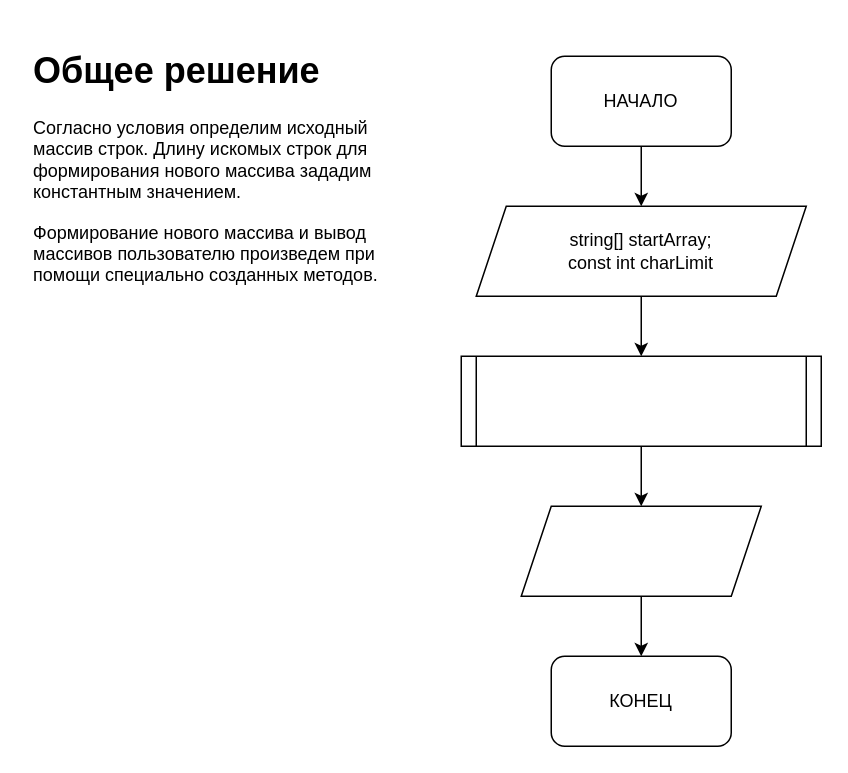
The diagram is 848 pixels wide and 773 high, and some of its shapes have lost their labels. The shapes that lost their labels are listed below. From the top down, each one's box as (x1, y1, x2, y2) in pixels, then its label:
(460, 355, 821, 446): string[] newArray = getNewArray(startArray, charLimit);
(520, 505, 761, 596): printArray(startArray); printArray(newArray);
